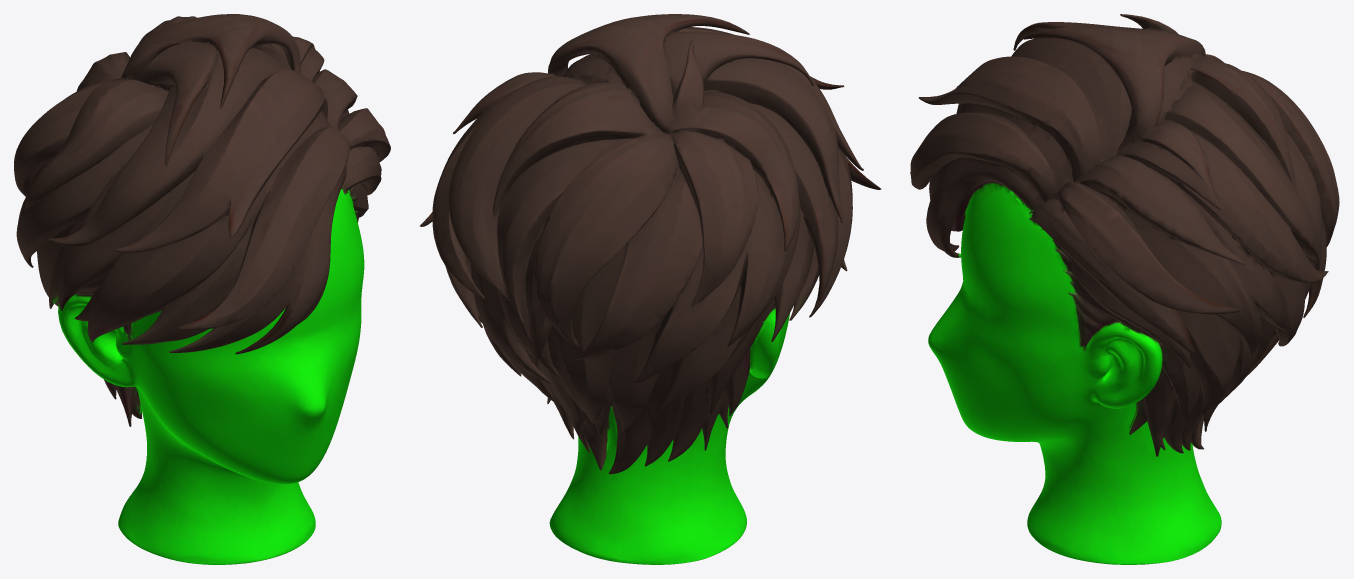
File: hair-haru-sidepart-v3.glb
The picture shows the model from 3 angles, left to right: view 1: azimuth 30°, elevation 25°; view 2: azimuth 150°, elevation 25°; view 3: azimuth 270°, elevation 25°; orthographic projection.
Visible parts, largest first — view 1: tripo_node_3eb233ac-9ff1-4df0-9a6a-7107db4b90e3; view 2: tripo_node_3eb233ac-9ff1-4df0-9a6a-7107db4b90e3; view 3: tripo_node_3eb233ac-9ff1-4df0-9a6a-7107db4b90e3.
Boxes of the visible parts, x1,y1,x2,y2 form: tripo_node_3eb233ac-9ff1-4df0-9a6a-7107db4b90e3: (14,14,390,564); tripo_node_3eb233ac-9ff1-4df0-9a6a-7107db4b90e3: (420,14,881,564); tripo_node_3eb233ac-9ff1-4df0-9a6a-7107db4b90e3: (910,14,1339,564).
Size of the model in its own units: 0.7359 by 0.9797 by 0.769.
Materials: 1 (1 with a texture image).
